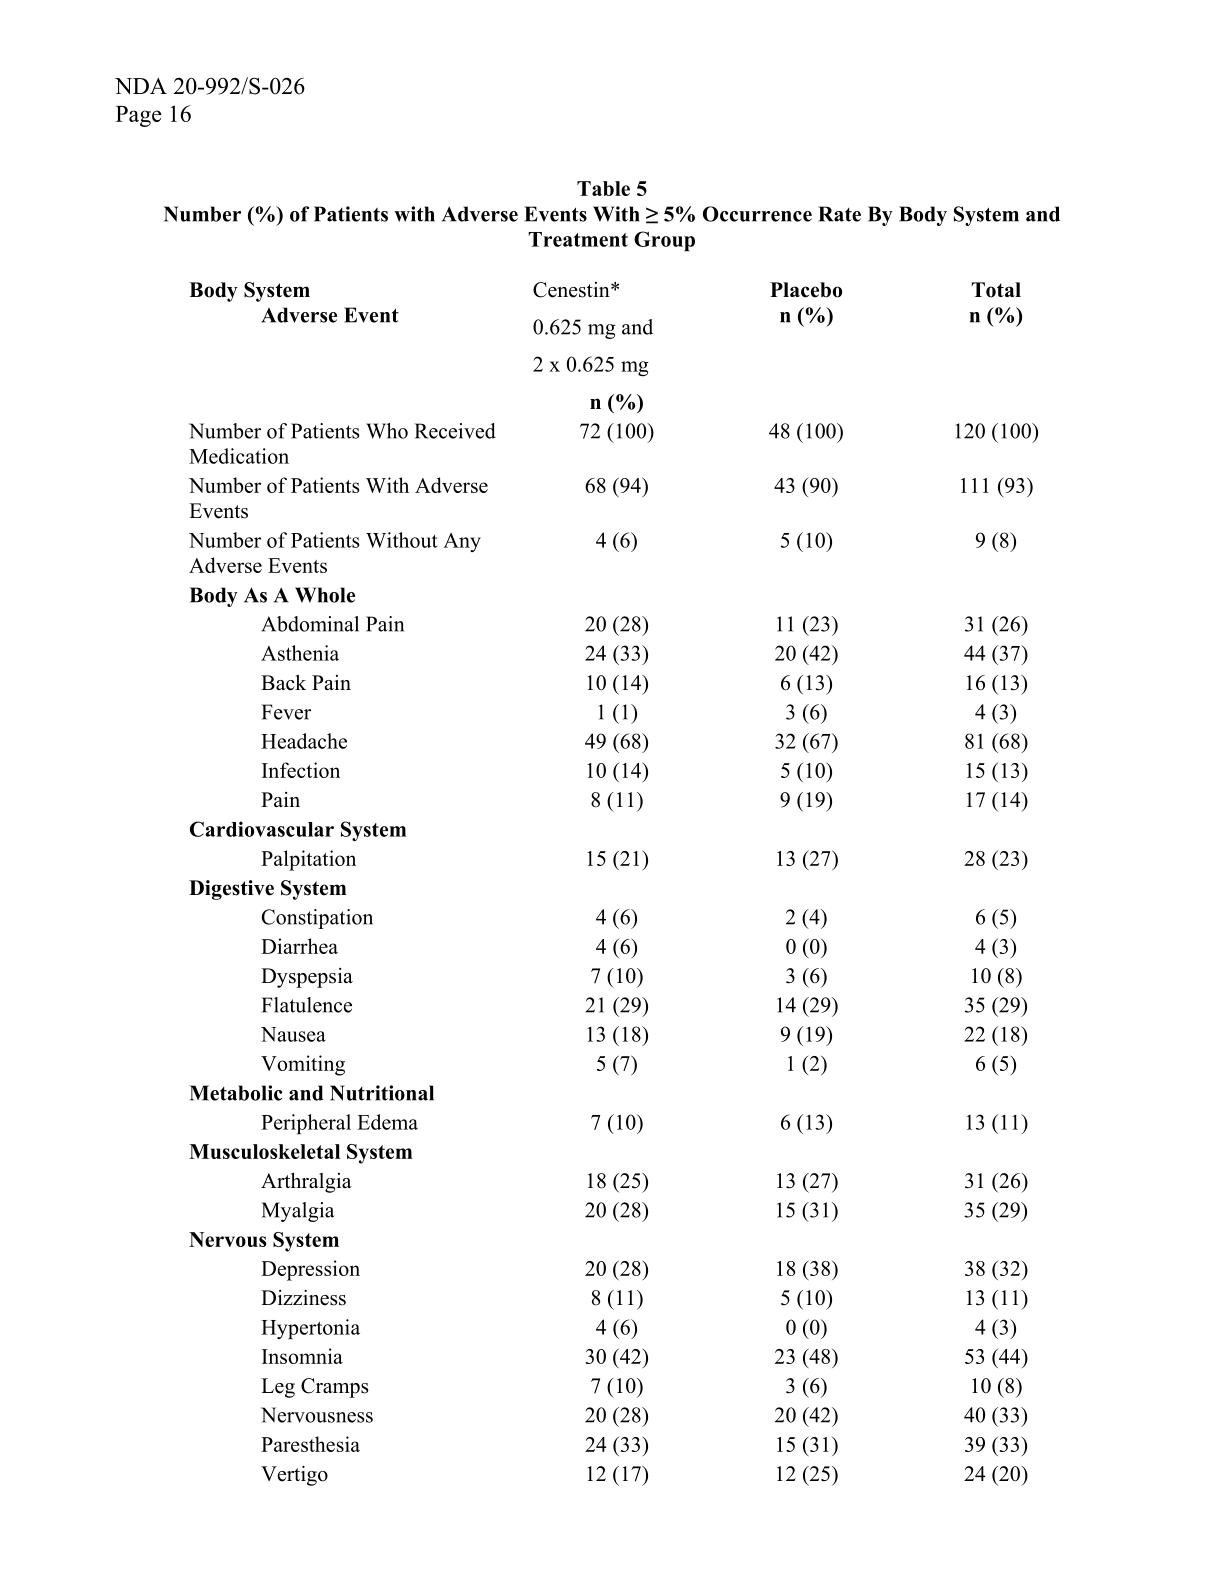nolines: (183, 276, 1047, 1486)
